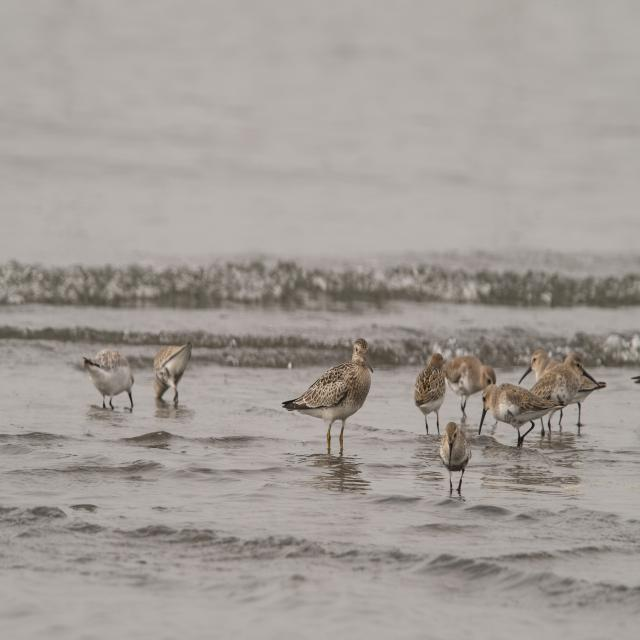bird: (278, 344, 376, 459), (507, 351, 609, 438), (480, 380, 554, 448), (76, 350, 146, 414), (437, 352, 495, 412), (414, 352, 449, 444), (151, 344, 191, 414), (443, 422, 472, 501)
